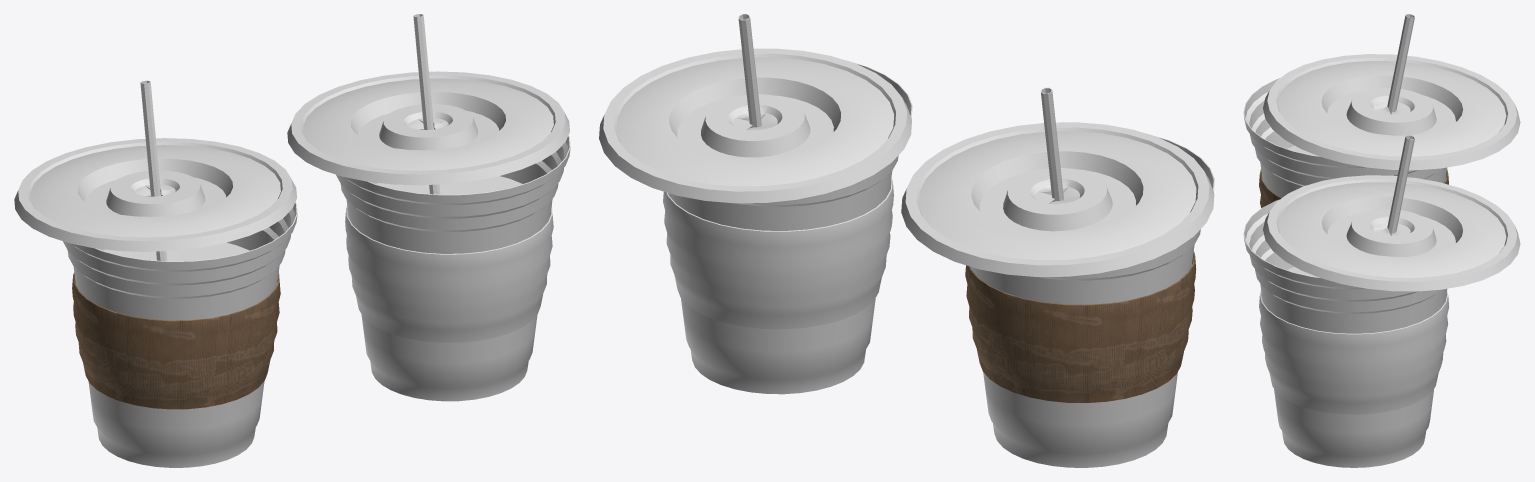
The model's file is Coffee_Cup_Museum.fbx.
The picture shows the model from 3 angles, left to right: view 1: azimuth 30°, elevation 25°; view 2: azimuth 150°, elevation 25°; view 3: azimuth 270°, elevation 25°; orthographic projection. The views are drawn at different scales.
Parts seen in each view (by area): view 1: SingleMuseum, lid, cup, cardboard wrap, straw, floors.001; view 2: SingleMuseum, lid, cardboard wrap, cup, straw; view 3: SingleMuseum, lid, cup, straw, cardboard wrap.
Part boxes in pixels (bbox=[...]): SingleMuseum: bbox=[287, 14, 570, 401]; lid: bbox=[14, 138, 296, 251]; cup: bbox=[63, 202, 297, 467]; cardboard wrap: bbox=[72, 272, 280, 409]; straw: bbox=[140, 80, 167, 261]; floors.001: bbox=[103, 242, 249, 261]; SingleMuseum: bbox=[599, 14, 912, 394]; lid: bbox=[901, 122, 1214, 276]; cardboard wrap: bbox=[965, 251, 1196, 402]; cup: bbox=[970, 134, 1214, 467]; straw: bbox=[1040, 87, 1063, 201]; SingleMuseum: bbox=[1243, 135, 1520, 467]; lid: bbox=[1263, 54, 1520, 170]; cup: bbox=[1243, 78, 1447, 197]; straw: bbox=[1387, 14, 1414, 114]; cardboard wrap: bbox=[1259, 169, 1448, 207].
Size of the model in its own units: 5993 by 3660 by 3046.
Materials: 4 (1 with a texture image).
